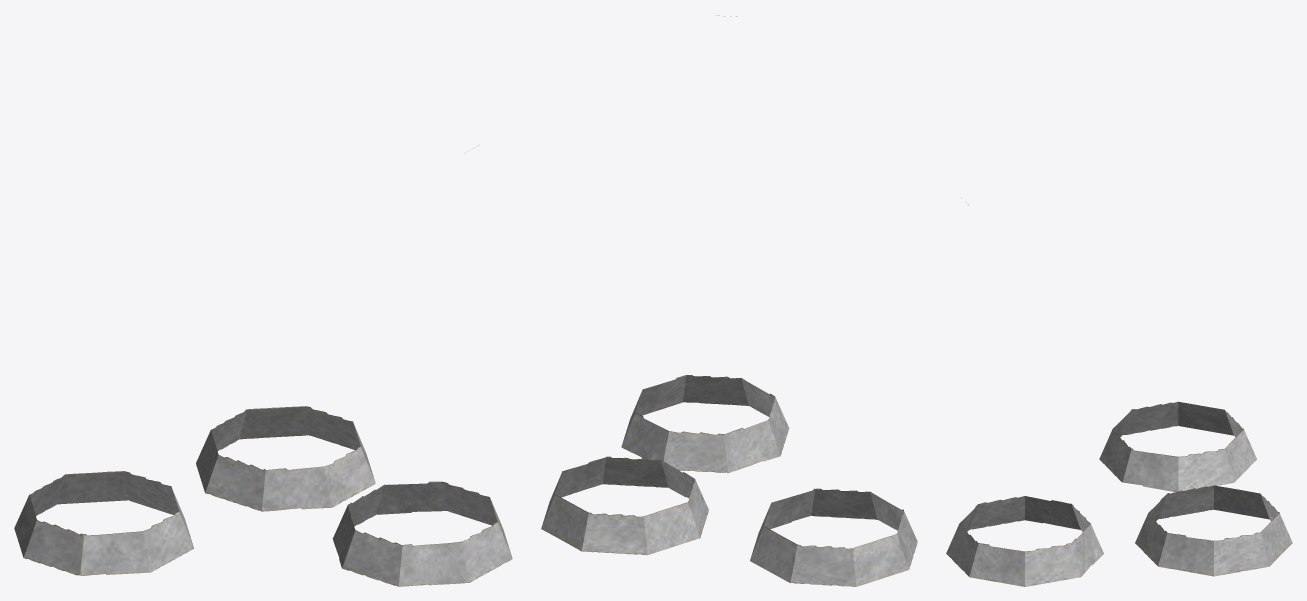
File: testTubes1.fbx
The picture shows the model from 3 angles, left to right: view 1: azimuth 30°, elevation 25°; view 2: azimuth 150°, elevation 25°; view 3: azimuth 270°, elevation 25°; orthographic projection. The views are drawn at different scales.
Visible parts, largest first — view 1: TestTubes1; view 2: TestTubes1; view 3: TestTubes1.
Boxes of the visible parts, x1,y1,x2,y2 form: TestTubes1: (14,145,512,586); TestTubes1: (541,15,917,586); TestTubes1: (946,197,1292,586).
Size of the model in its own units: 57.91 by 70 by 52.7.
